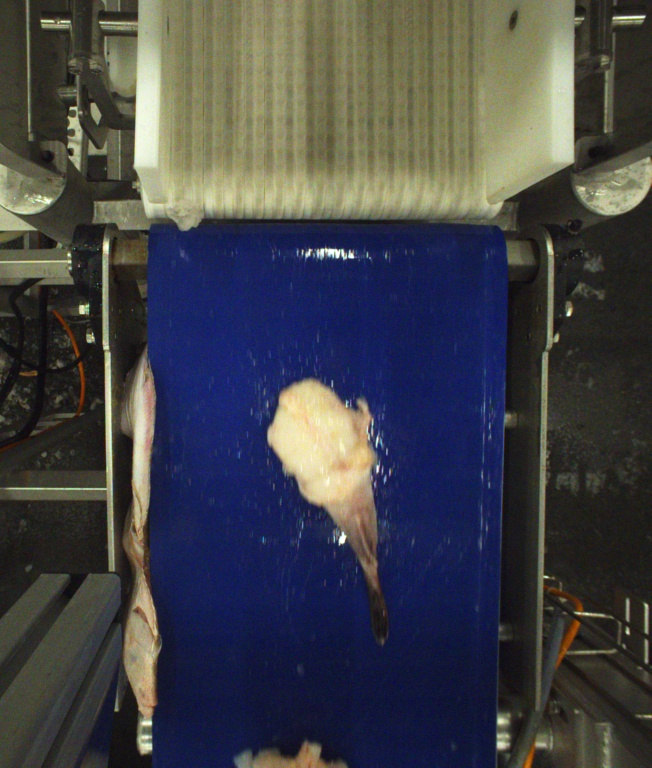ANF: (266, 377, 392, 644)
